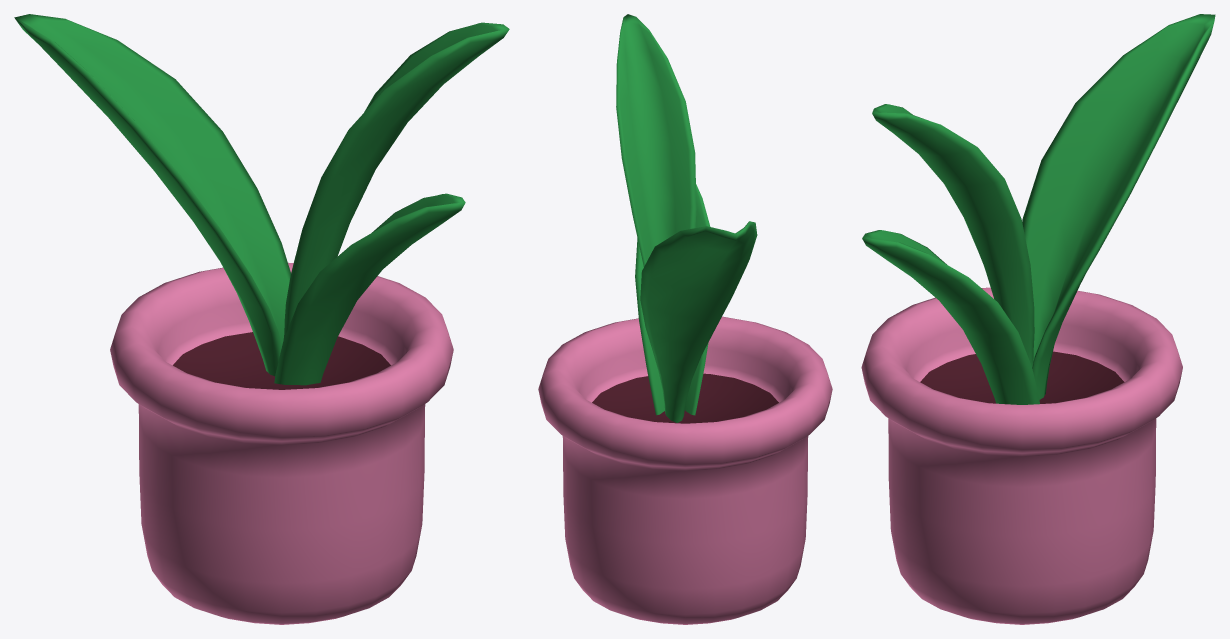
File: TableDecor_02_CC.glb
The picture shows the model from 3 angles, left to right: view 1: azimuth 30°, elevation 25°; view 2: azimuth 150°, elevation 25°; view 3: azimuth 270°, elevation 25°; orthographic projection. The views are drawn at different scales.
Visible parts, largest first — view 1: TableDecor_02_CC; view 2: TableDecor_02_CC; view 3: TableDecor_02_CC.
Boxes of the visible parts, x1,y1,x2,y2 form: TableDecor_02_CC: [14, 14, 509, 624]; TableDecor_02_CC: [538, 14, 832, 624]; TableDecor_02_CC: [861, 14, 1215, 624].
Size of the model in its own units: 0.1099 by 0.1939 by 0.115.
Materials: 1 (1 with a texture image).
